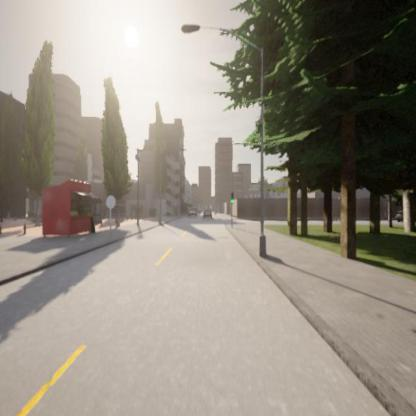traffic_light_green: (231, 192, 233, 204)
